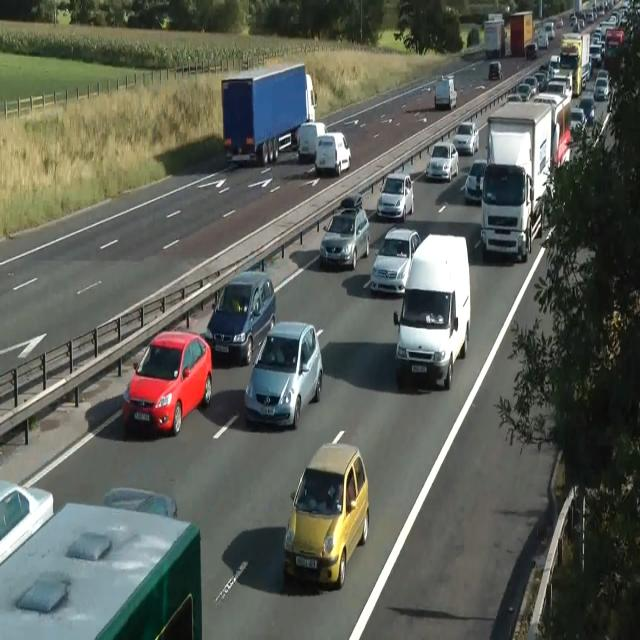bus: (0, 481, 202, 639), (0, 479, 54, 565), (370, 227, 420, 295), (102, 486, 178, 519), (425, 140, 459, 182), (464, 159, 487, 203), (453, 120, 479, 155), (333, 191, 363, 216), (576, 96, 596, 126), (569, 107, 587, 133), (593, 76, 611, 100), (523, 76, 539, 96), (488, 60, 502, 80), (524, 40, 538, 59), (536, 29, 548, 49), (544, 22, 555, 38), (555, 18, 563, 28)
jeep: (283, 433, 369, 589), (392, 232, 470, 389), (121, 329, 212, 436), (243, 320, 323, 428), (204, 270, 276, 366), (480, 161, 532, 261), (319, 204, 371, 270), (376, 172, 414, 222), (315, 131, 351, 176), (297, 121, 325, 162)
minibus: (480, 100, 554, 262), (221, 62, 317, 166), (558, 32, 592, 96), (504, 10, 534, 58), (483, 13, 505, 59), (434, 74, 456, 110)
